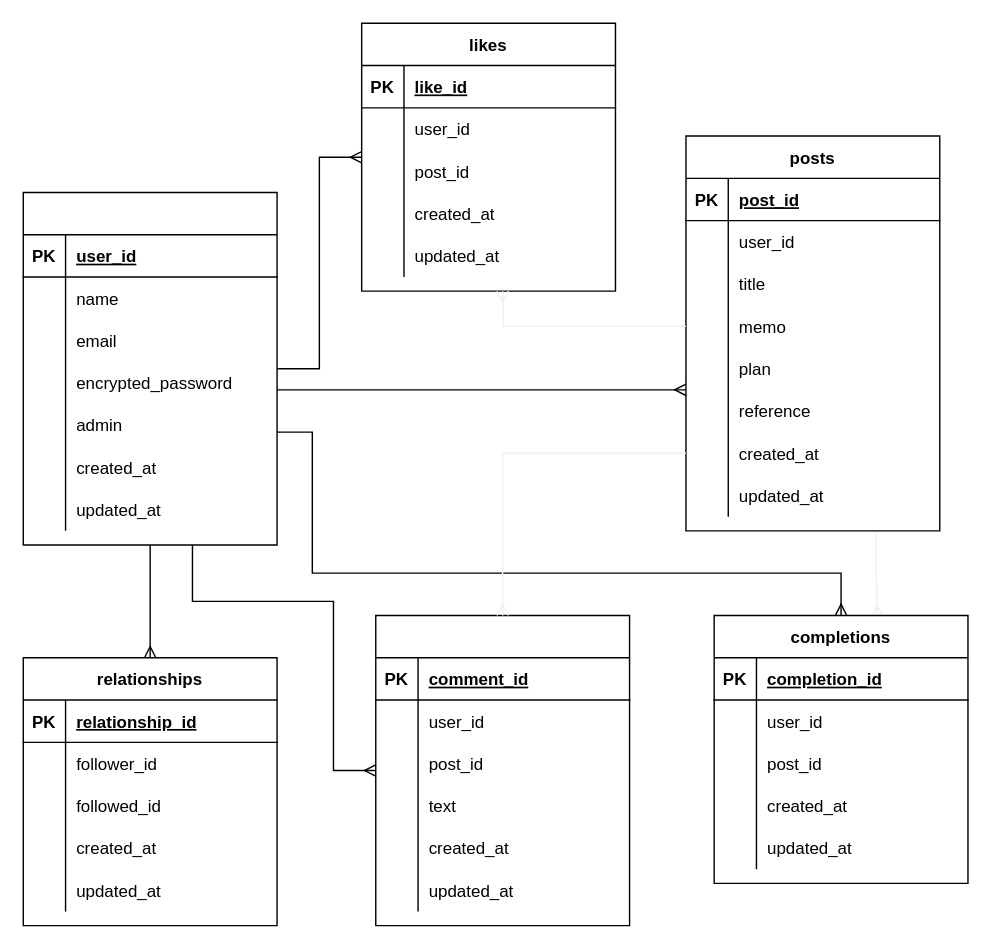
The diagram is 991 pixels wide and 949 high, and some of its shapes have lost their labels. Here are the shapes that lost their labels. From the top down, the box of each, then its label:
(22, 191, 277, 545): users
(374, 614, 630, 926): comments
